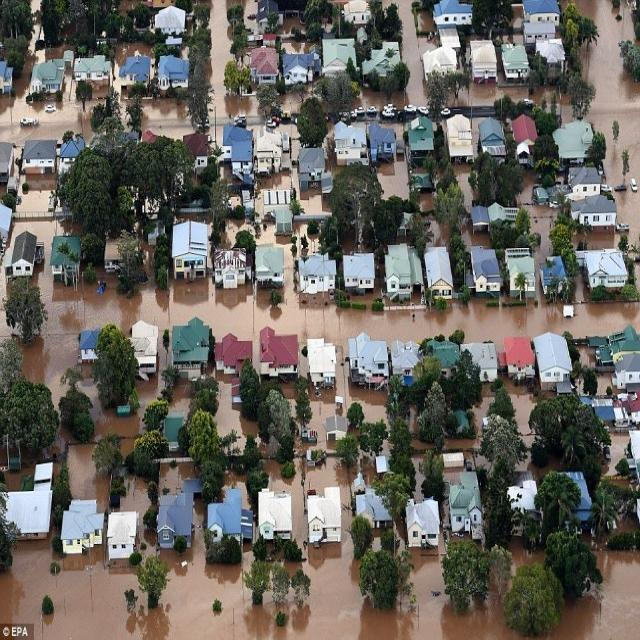flood: (21, 255, 640, 440), (0, 530, 522, 640), (0, 22, 150, 222), (354, 0, 434, 198), (582, 0, 640, 238), (209, 0, 265, 146), (547, 554, 640, 640), (66, 416, 142, 512), (256, 123, 330, 220), (290, 457, 355, 544), (451, 79, 530, 138), (443, 394, 495, 470), (519, 172, 561, 260), (142, 90, 194, 138), (215, 381, 258, 438), (10, 213, 64, 250), (119, 476, 150, 530), (511, 388, 538, 450), (280, 83, 312, 114), (455, 164, 474, 216), (610, 433, 631, 474), (0, 261, 10, 340), (169, 384, 190, 416), (591, 228, 617, 248), (432, 214, 446, 240), (517, 453, 532, 472), (270, 470, 284, 490), (422, 193, 435, 210), (414, 441, 431, 452), (463, 217, 473, 232)
house: (4, 468, 56, 540), (168, 314, 214, 381), (448, 471, 488, 548), (256, 322, 302, 383), (156, 482, 200, 544), (58, 498, 104, 556), (531, 332, 572, 396), (258, 488, 296, 554), (550, 119, 598, 170), (172, 218, 210, 280), (406, 495, 443, 558), (382, 240, 417, 305), (306, 486, 339, 554), (134, 314, 166, 384), (504, 245, 536, 312), (579, 248, 630, 290), (74, 56, 114, 109), (208, 493, 252, 541), (346, 334, 389, 382), (32, 48, 70, 101), (106, 509, 140, 568), (342, 248, 377, 304), (332, 118, 368, 172), (357, 492, 391, 548), (52, 230, 82, 292), (303, 337, 337, 391), (573, 193, 617, 234), (442, 110, 476, 163), (505, 332, 537, 388), (424, 244, 456, 298), (214, 244, 250, 290), (472, 248, 503, 300), (302, 253, 338, 296), (254, 238, 284, 289), (158, 54, 190, 100), (408, 111, 438, 160), (247, 48, 280, 92), (474, 200, 512, 238), (476, 112, 506, 160), (465, 340, 500, 380), (217, 328, 251, 369), (224, 125, 253, 173), (511, 113, 538, 164), (522, 0, 559, 37), (22, 138, 58, 176), (471, 38, 498, 88), (500, 41, 530, 85), (431, 0, 476, 29), (421, 42, 458, 77), (256, 134, 284, 179), (367, 38, 402, 74), (324, 36, 356, 75), (12, 231, 39, 277), (298, 144, 326, 188), (154, 3, 188, 39), (508, 476, 542, 512), (612, 352, 640, 392), (370, 122, 398, 162), (538, 38, 566, 77), (118, 54, 152, 86), (568, 166, 603, 196), (284, 54, 311, 86), (343, 0, 373, 27), (78, 330, 98, 366), (325, 414, 350, 440), (60, 136, 79, 166)
